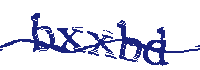b: (116, 21, 142, 62), (31, 11, 55, 53)
d: (144, 27, 168, 67)
x: (87, 29, 115, 58), (56, 26, 86, 53)
